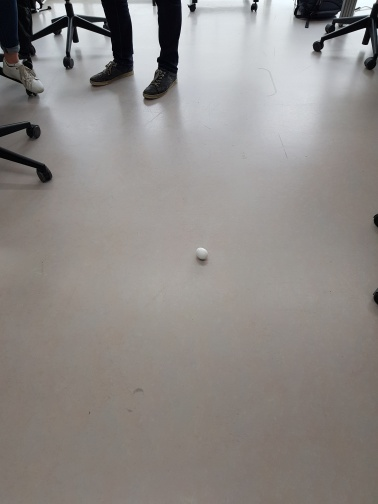egg: (193, 247, 211, 262)
